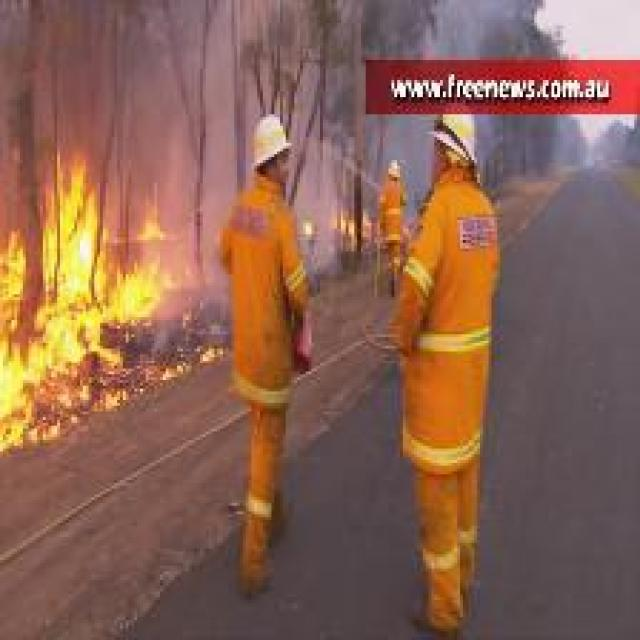fire: (3, 145, 173, 434), (323, 194, 378, 249)
smoke: (99, 7, 220, 221)
